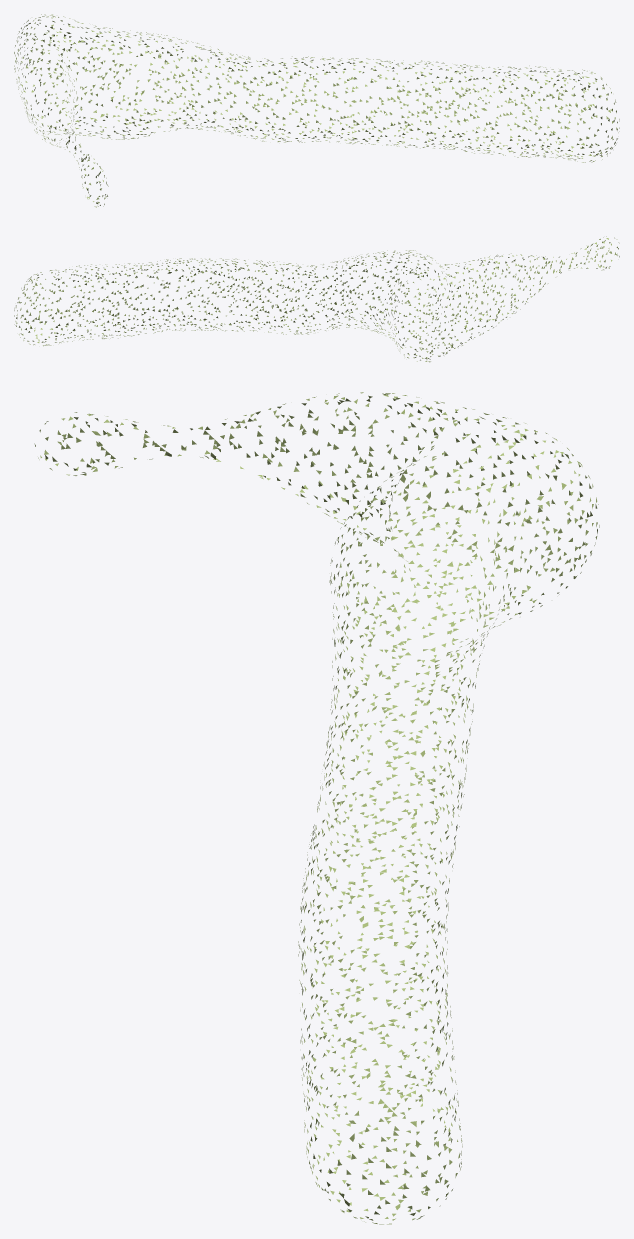
File: morph_011.glb
The picture shows the model from 3 angles, top to bottom: view 1: azimuth 30°, elevation 25°; view 2: azimuth 150°, elevation 25°; view 3: azimuth 270°, elevation 25°; orthographic projection. The views are drawn at different scales.
Bounding box in the file's own units: 145 × 53.09 × 69.3.
